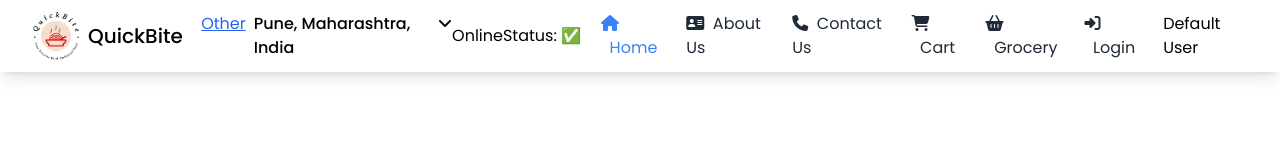
Test case: should render header component with a login button
Click the link "Login": (1114, 36) [1084,12,1143,60]
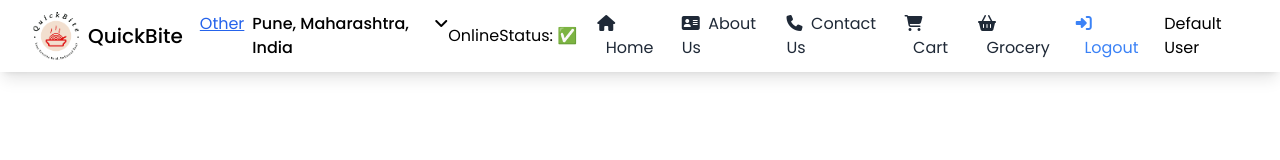
Expected: the link "Logout" is shown, [1076,12,1144,60]
